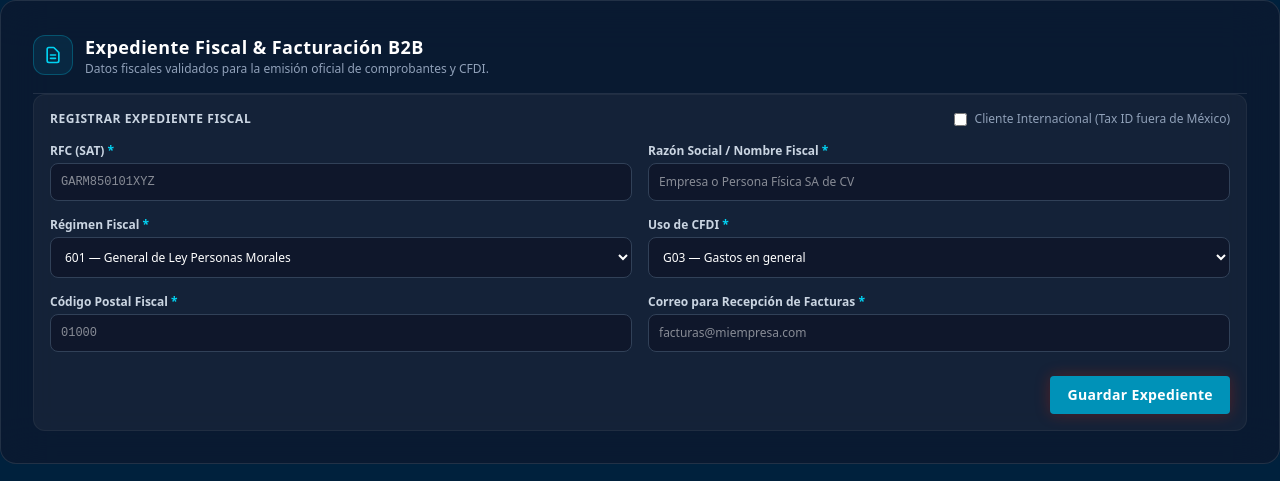
Test: ClientTaxProfileWidget Component Suite (FC 046 100% Coverage) › debe permitir guardar el expediente fiscal de cliente internacional y omitir validación SAT estricta
The image size is (1280, 481).
Expected: the heading "Registrar Expediente Fiscal" is shown, x1=50 y1=111 x2=251 y2=127
Activar toggle internacional
Click the checkbox labelled "Cliente Internacional (Tax ID fuera de México)": point(960, 119) x1=954 y1=112 x2=967 y2=126
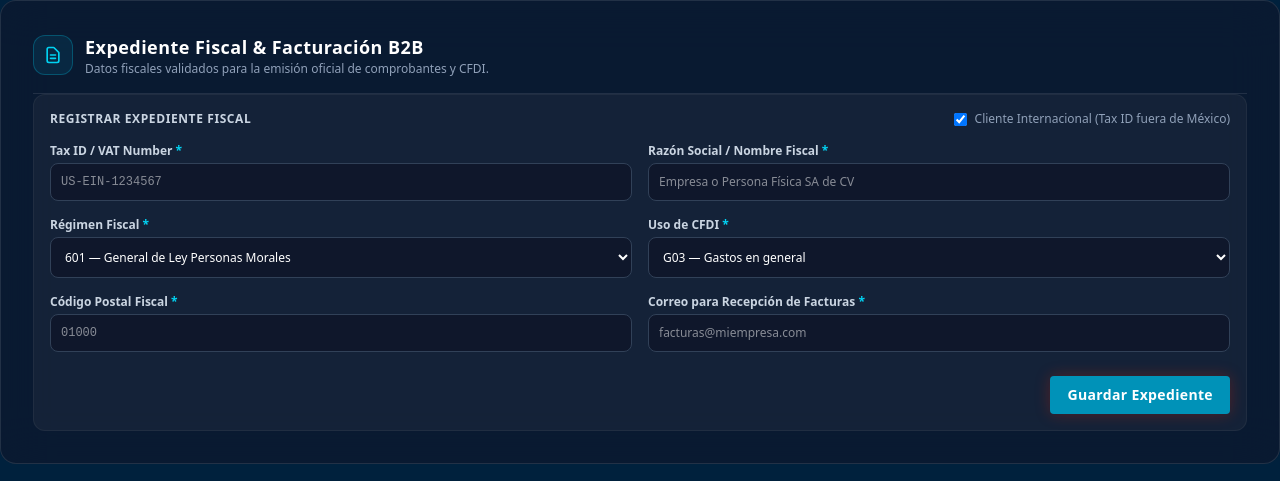
In the field with placeholder "US-EIN-1234567": point(341, 182) x1=50 y1=163 x2=632 y2=201, type "US-EIN-99887766"
In the field with placeholder "Empresa o Persona Física SA de CV": point(939, 182) x1=648 y1=163 x2=1230 y2=201, type "Global Tech LLC"
In the field with placeholder "01000": point(341, 333) x1=50 y1=314 x2=632 y2=352, type "94103"
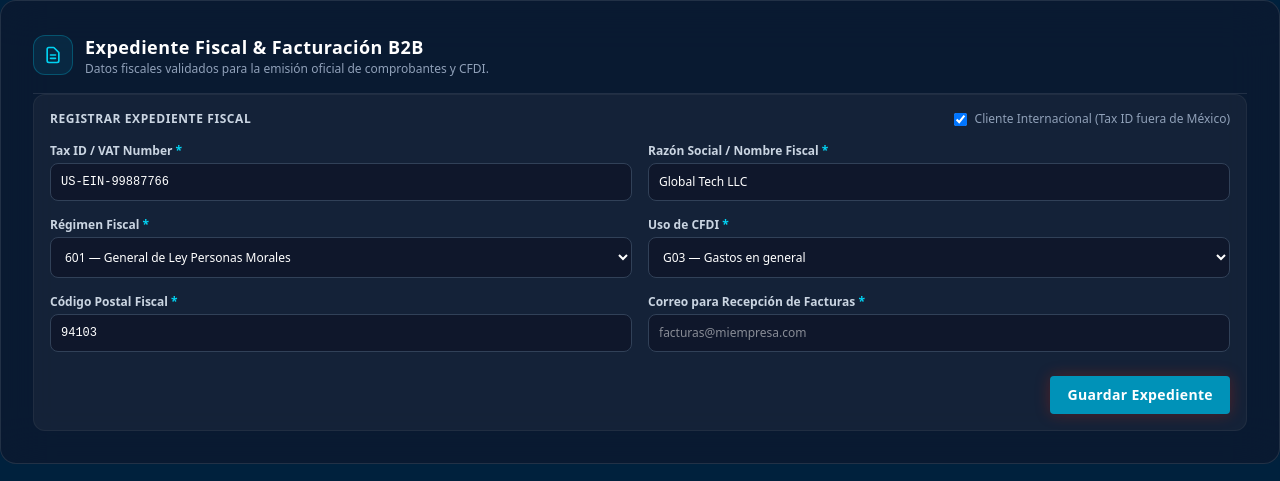
In the field with placeholder "facturas@miempresa.com": point(939, 333) x1=648 y1=314 x2=1230 y2=352, type "billing@globaltech.com"
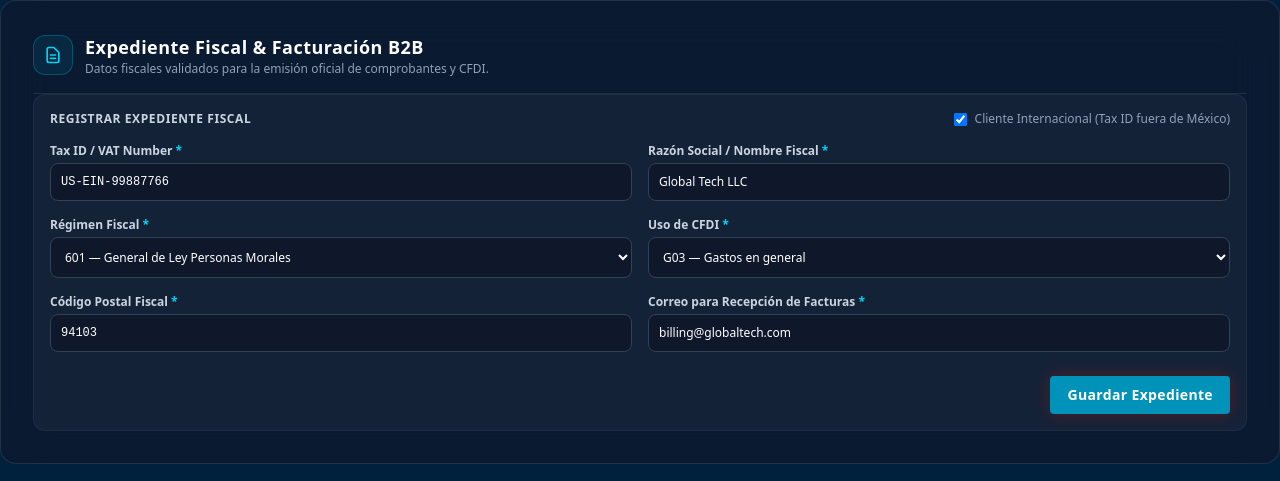
Cambiar régimen fiscal y uso de CFDI
Select "612 — Personas Físicas con Actividades Empresariales y Profesionales" in the dropdown showing "General de Ley Personas Morales" below "Régimen Fiscal": point(341, 258) x1=50 y1=237 x2=632 y2=278
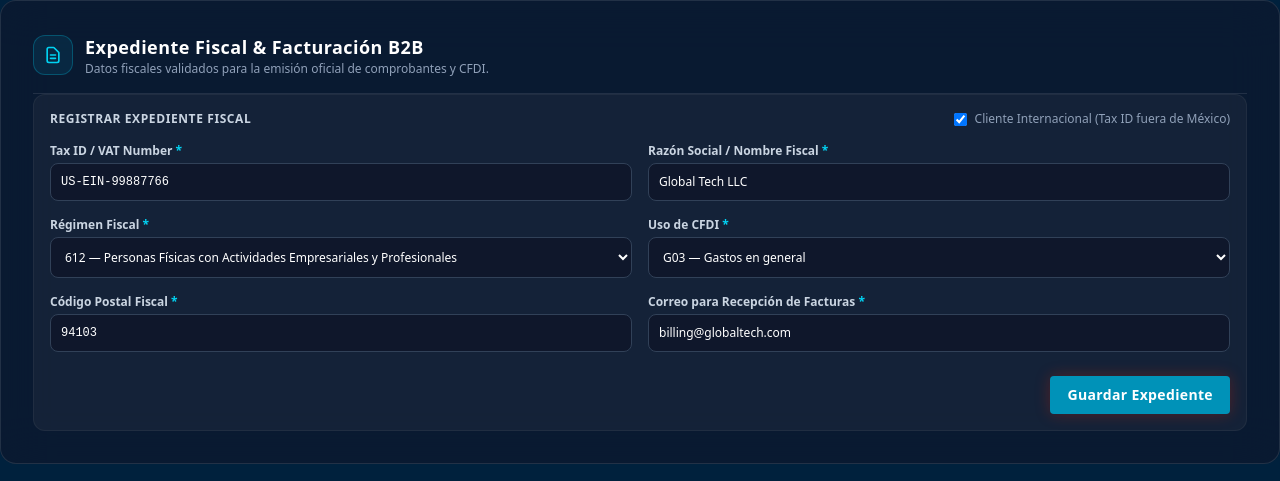
Select "G01 — Adquisición de mercancías" in the dropdown showing "Gastos en general" below "Uso de CFDI": point(939, 258) x1=648 y1=237 x2=1230 y2=278
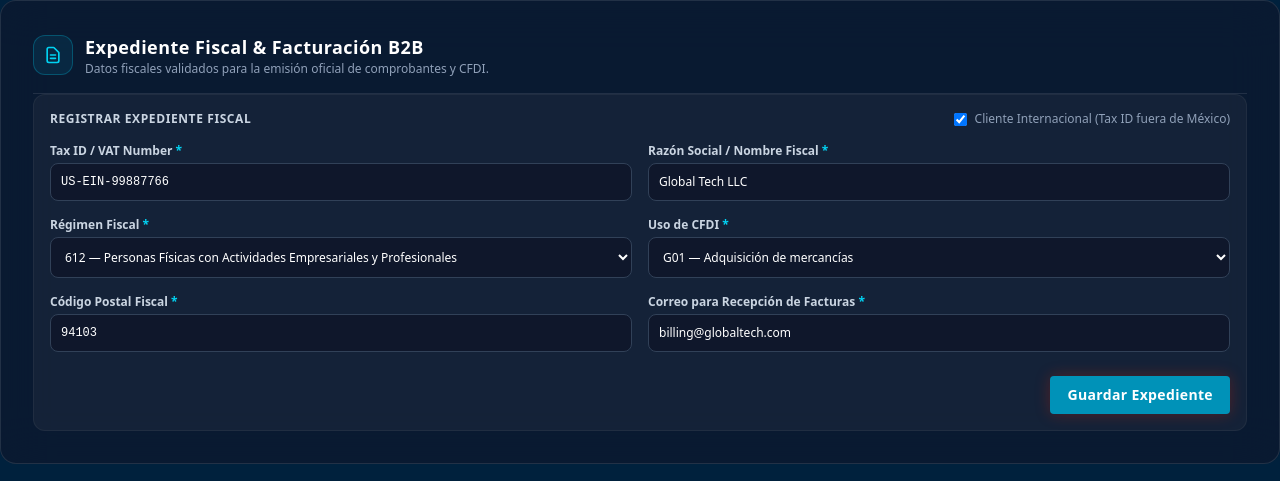
Click the button "Guardar Expediente": point(1140, 395) x1=1050 y1=376 x2=1230 y2=414
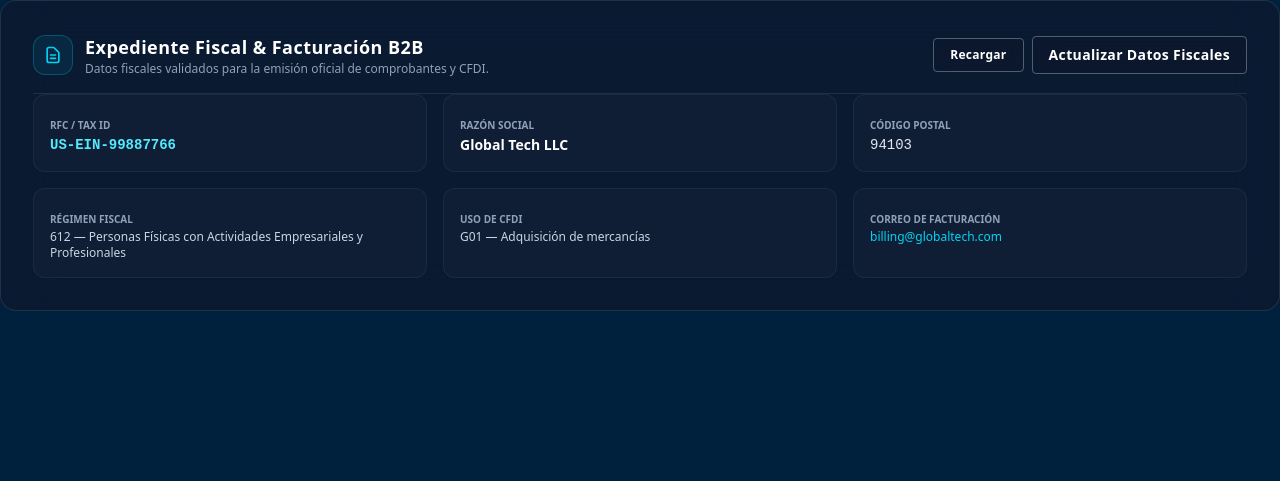
Now the text "Global Tech LLC" is shown, box x1=460 y1=135 x2=568 y2=154
Now the text "US-EIN-99887766" is shown, box x1=50 y1=137 x2=176 y2=153
